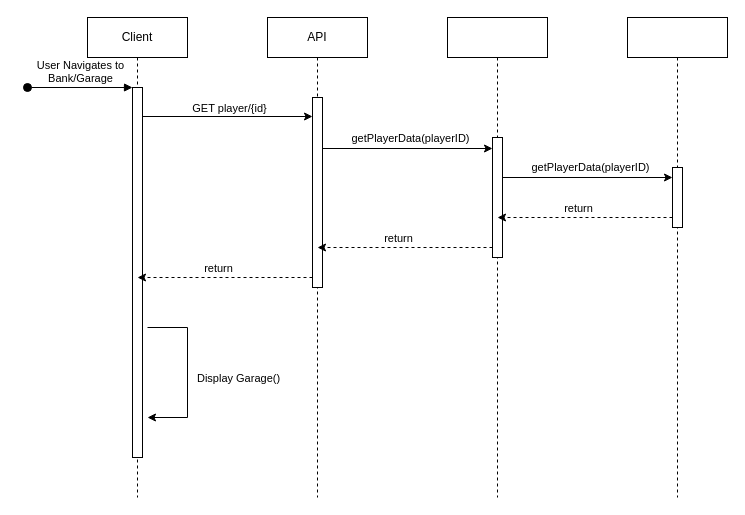
This 745x515 diagram has some shape labels left out. Here are the shapes that lost their labels. From the top down, the box of each, then its label:
(446, 16, 548, 498): Server
(626, 16, 728, 498): Database
